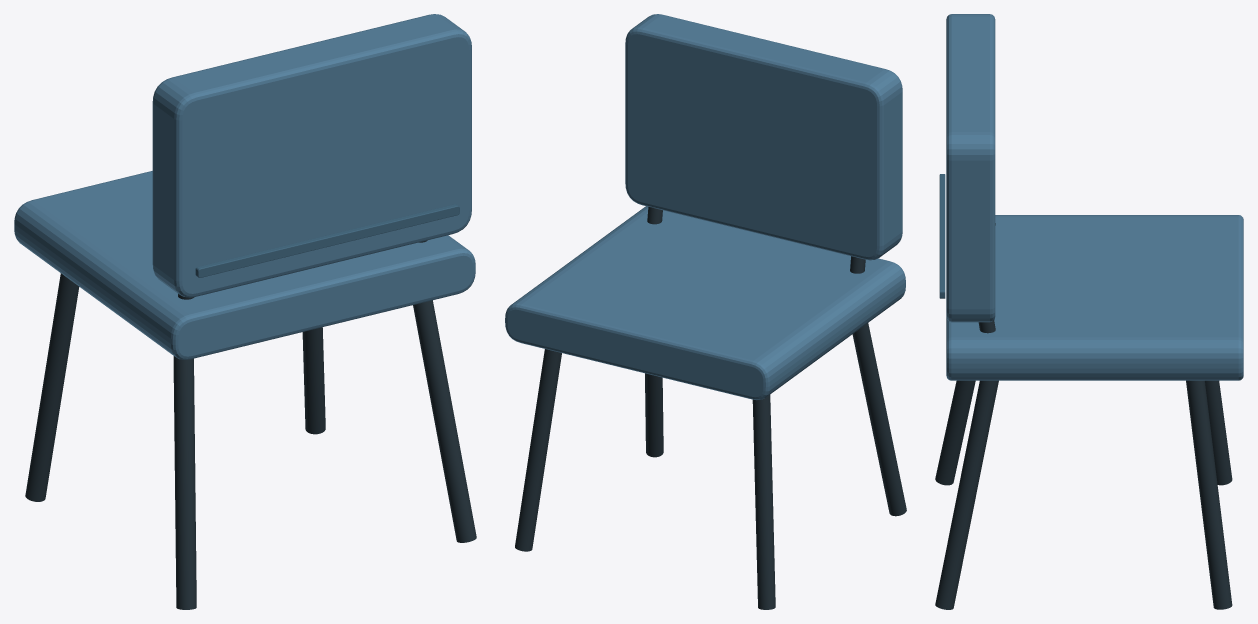
Rendered from desk-chair.glb.
3 views of the same model, side by side, from view 1: azimuth 30°, elevation 25°; view 2: azimuth 150°, elevation 25°; view 3: azimuth 270°, elevation 25° (orthographic). The views are drawn at different scales.
Parts seen in each view (by area): view 1: desk-chair; view 2: desk-chair; view 3: desk-chair.
Boxes of the visible parts, x1,y1,x2,y2 form: desk-chair: [14, 14, 476, 609]; desk-chair: [505, 14, 906, 609]; desk-chair: [935, 14, 1243, 609].
Size of the model in its own units: 0.86 by 1.38 by 0.8196.
